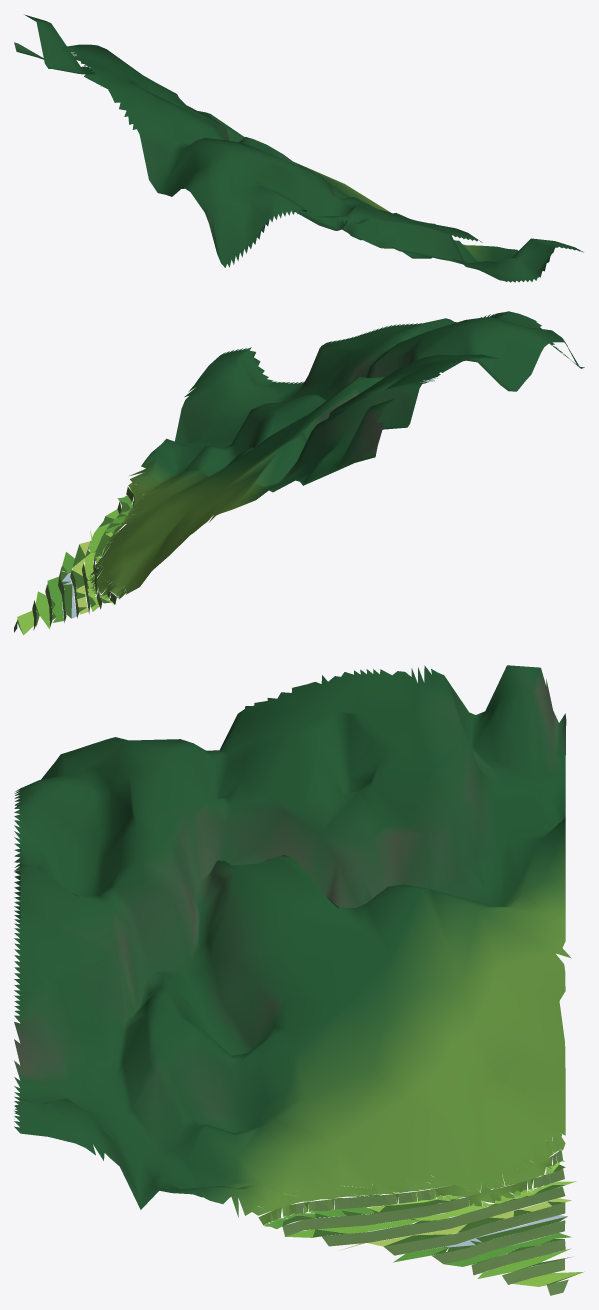
Rendered from payo_land_x0_y4_lod2.glb.
The picture shows the model from 3 angles, top to bottom: view 1: azimuth 30°, elevation 25°; view 2: azimuth 150°, elevation 25°; view 3: azimuth 270°, elevation 25°; orthographic projection. The views are drawn at different scales.
Visible parts, largest first — view 1: payo_land_x0_y4; view 2: payo_land_x0_y4; view 3: payo_land_x0_y4.
Boxes of the visible parts, x1=… form: payo_land_x0_y4: x1=14, y1=14, x2=583, y2=282; payo_land_x0_y4: x1=14, y1=311, x2=584, y2=635; payo_land_x0_y4: x1=14, y1=665, x2=584, y2=1295.
Bounding box in the file's own units: 268 × 206 × 267.
